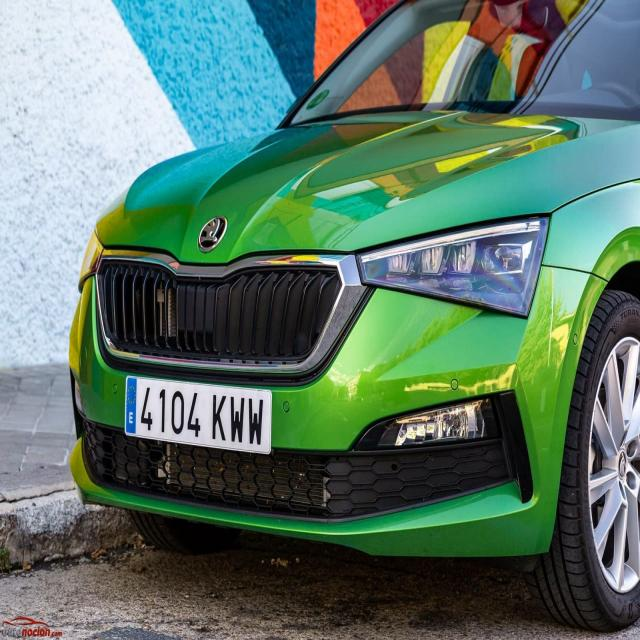football: (124, 375, 272, 458)
